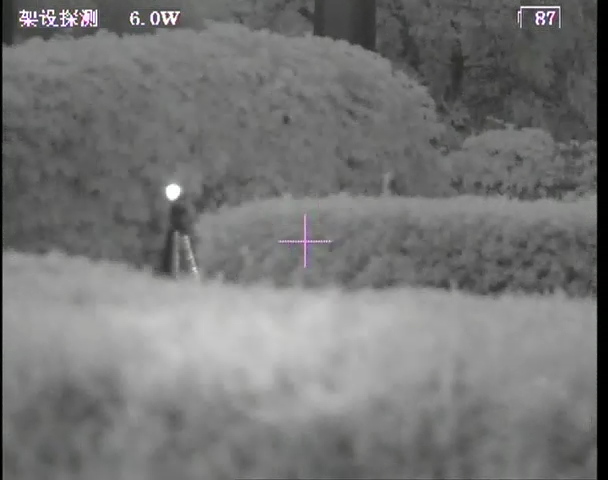my: (163, 183, 182, 201)
